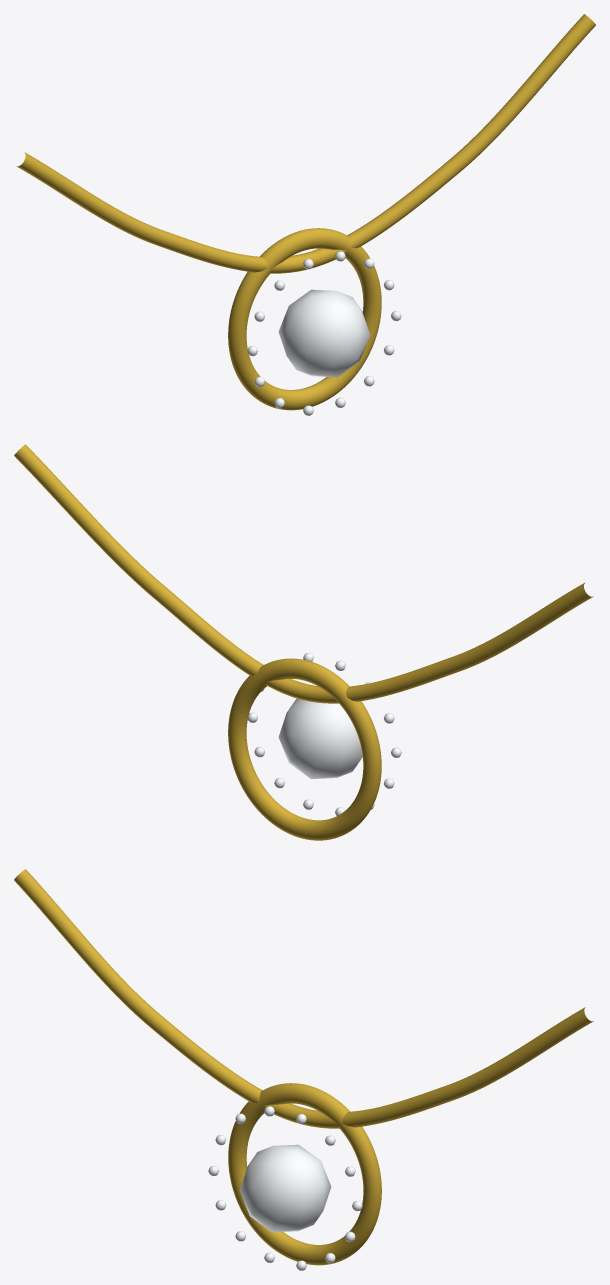
File: seraphine-layer-chain.glb
The picture shows the model from 3 angles, top to bottom: view 1: azimuth 30°, elevation 25°; view 2: azimuth 150°, elevation 25°; view 3: azimuth 330°, elevation 25°; orthographic projection.
Visible parts, largest first — view 1: chain, pendant_frame, pendant_gem; view 2: chain, pendant_frame, pendant_gem; view 3: chain, pendant_frame, pendant_gem.
Part boxes in pixels (x1,y1,x2,y2): chain: [16, 14, 595, 273]; pendant_frame: [228, 228, 381, 410]; pendant_gem: [278, 289, 370, 377]; chain: [14, 444, 593, 703]; pendant_frame: [228, 658, 381, 840]; pendant_gem: [278, 698, 362, 778]; chain: [14, 869, 593, 1128]; pendant_frame: [228, 1083, 381, 1265]; pendant_gem: [239, 1144, 331, 1232].
Size of the model in its own units: 2.74 by 1.47 by 0.387.
